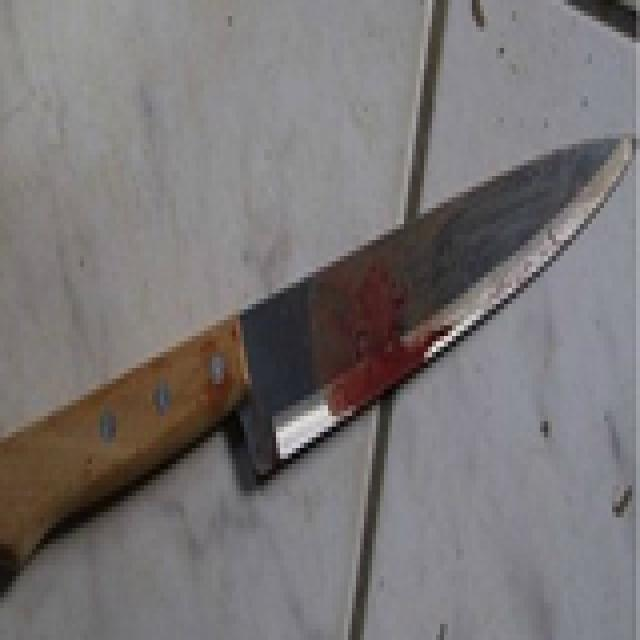Knife: (31, 131, 633, 556)
